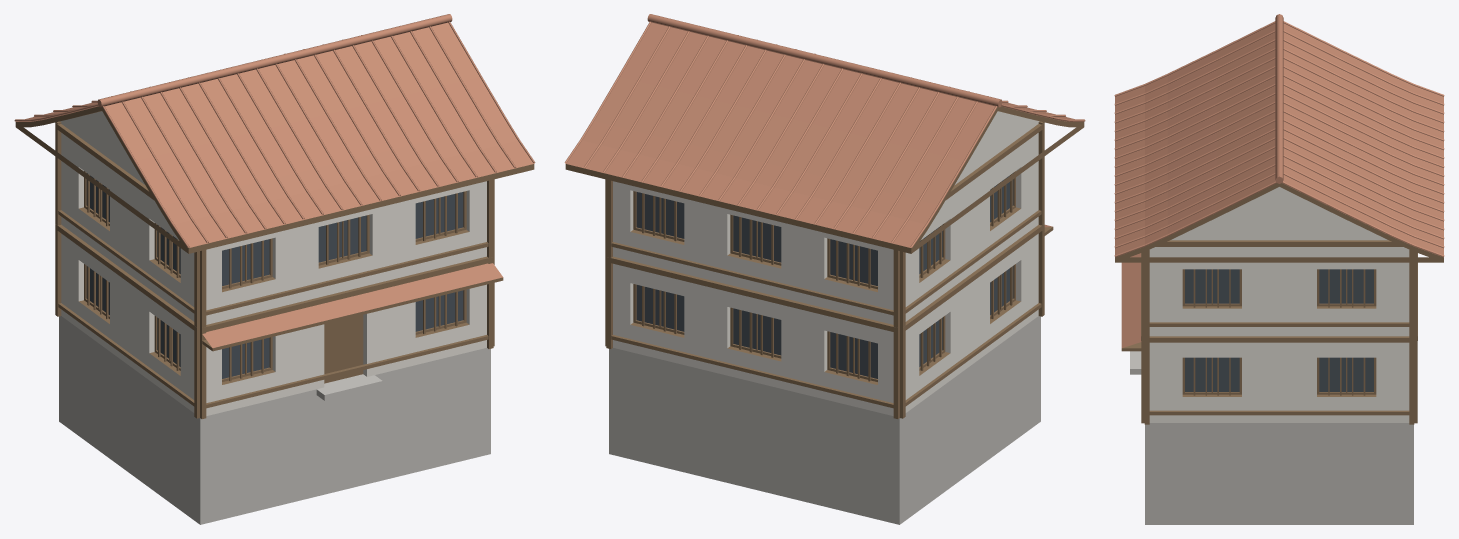
File: japanese_house_2_s.glb
3 renders of one model, left to right at view 1: azimuth 30°, elevation 25°; view 2: azimuth 150°, elevation 25°; view 3: azimuth 270°, elevation 25°, orthographic. The views are drawn at different scales.
Visible parts, largest first — view 1: japanese_house_2_s; view 2: japanese_house_2_s; view 3: japanese_house_2_s.
Boxes of the visible parts, <box> form: japanese_house_2_s: <box>14,14,535,524</box>; japanese_house_2_s: <box>564,14,1085,524</box>; japanese_house_2_s: <box>1114,14,1444,524</box>.
Size of the model in its own units: 11.46 by 11.9 by 9.83.
